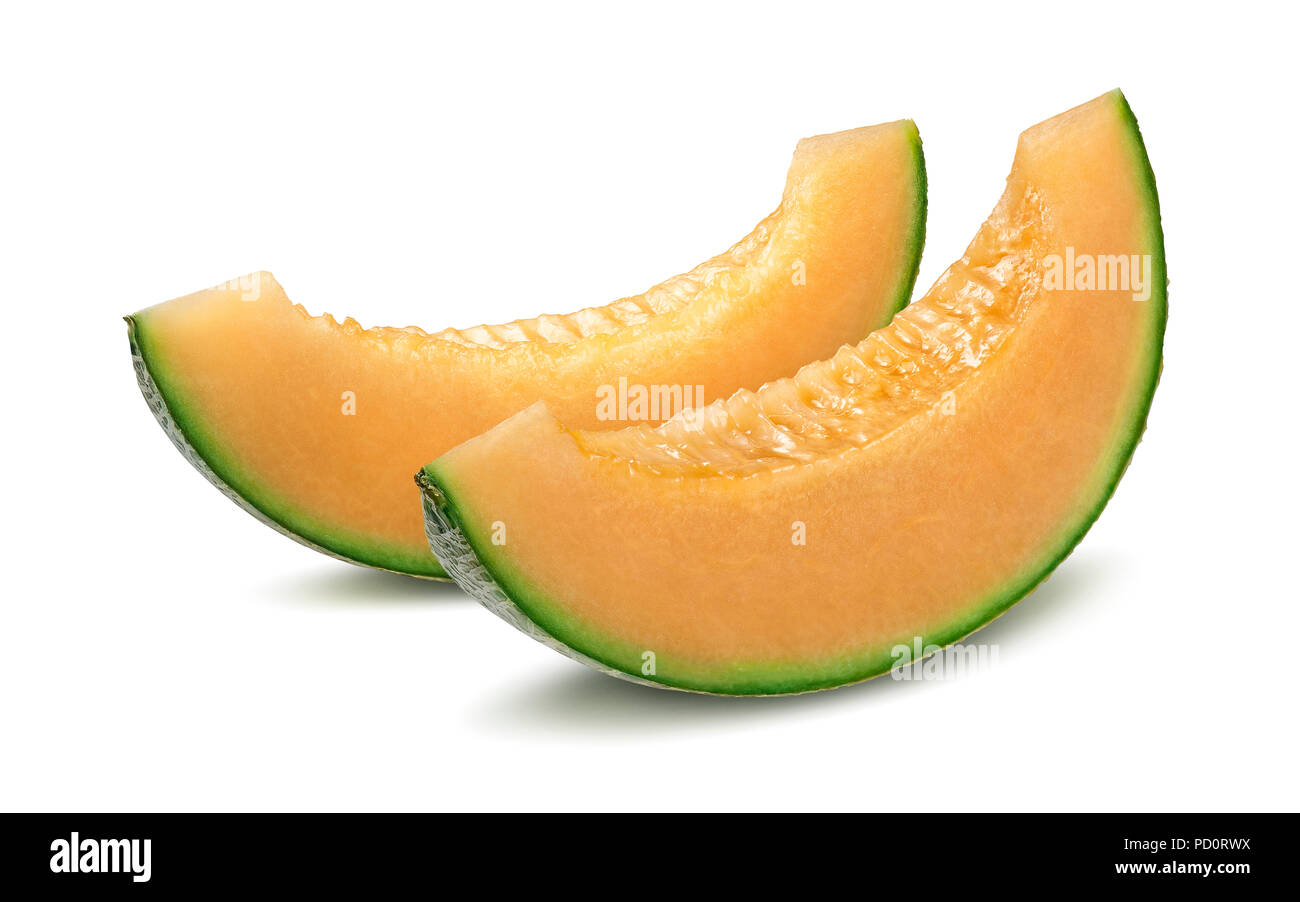Melon: (504, 101, 1170, 750), (138, 110, 982, 532)
